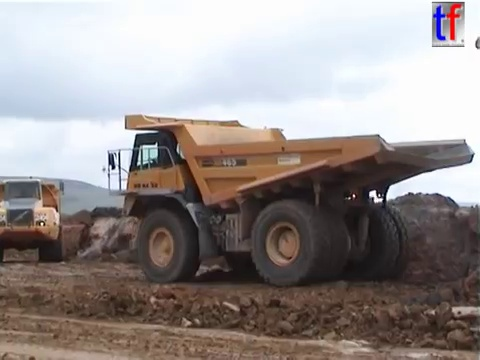truck: (100, 111, 478, 289), (1, 174, 68, 266)
